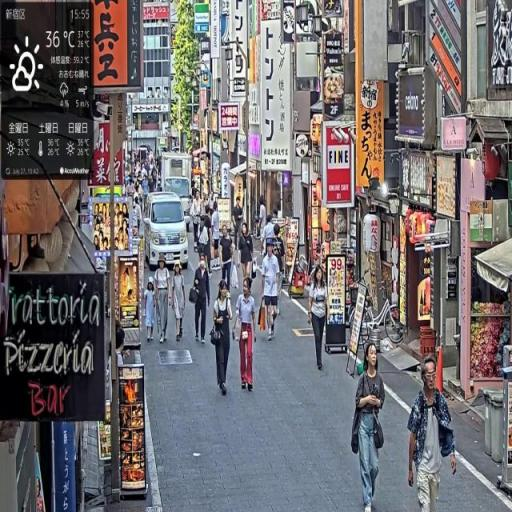person: (408, 356, 459, 512), (351, 342, 387, 512), (212, 279, 236, 397), (235, 274, 259, 392), (308, 262, 331, 377), (261, 240, 283, 343), (192, 251, 212, 344), (154, 253, 174, 345), (172, 260, 189, 344), (221, 226, 236, 299), (240, 222, 256, 289), (231, 196, 245, 260)
